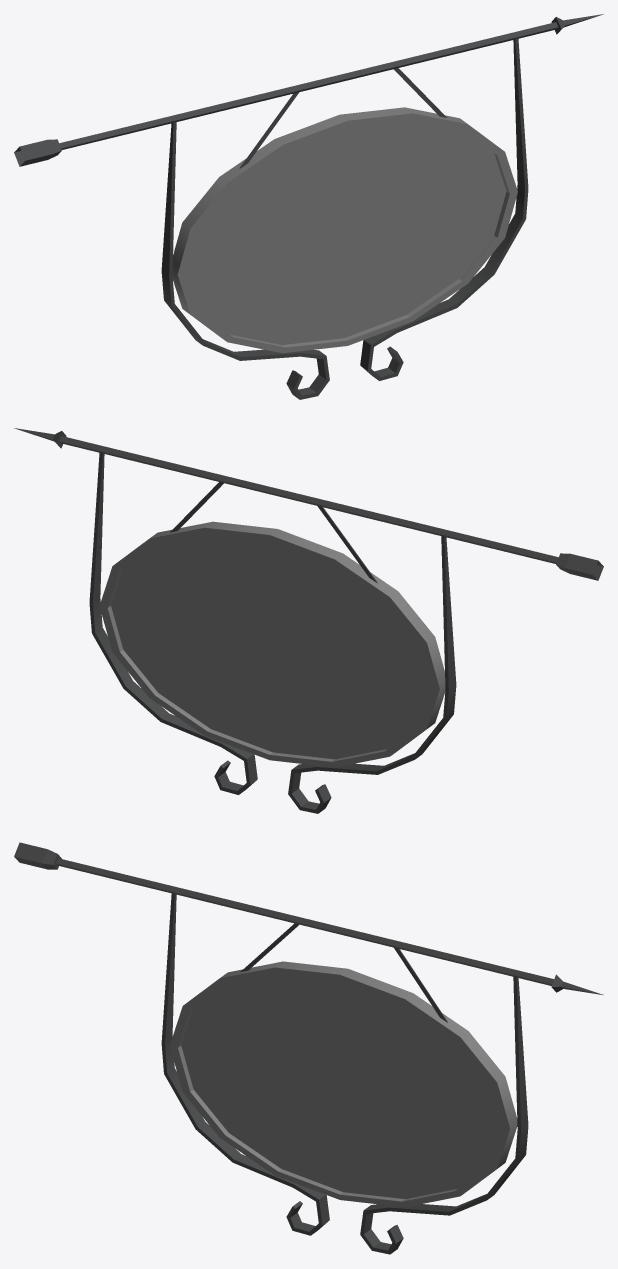
Rendered from SM_storesign_01.fbx.
3 renders of one model, top to bottom at view 1: azimuth 30°, elevation 25°; view 2: azimuth 150°, elevation 25°; view 3: azimuth 330°, elevation 25°, orthographic.
Visible parts, largest first — view 1: Object089; view 2: Object089; view 3: Object089.
Boxes of the visible parts, bbox=[...] form: Object089: bbox=[14, 14, 603, 399]; Object089: bbox=[14, 428, 603, 813]; Object089: bbox=[14, 842, 603, 1254].
Size of the model in its own units: 67.48 by 2.25 by 35.18.
